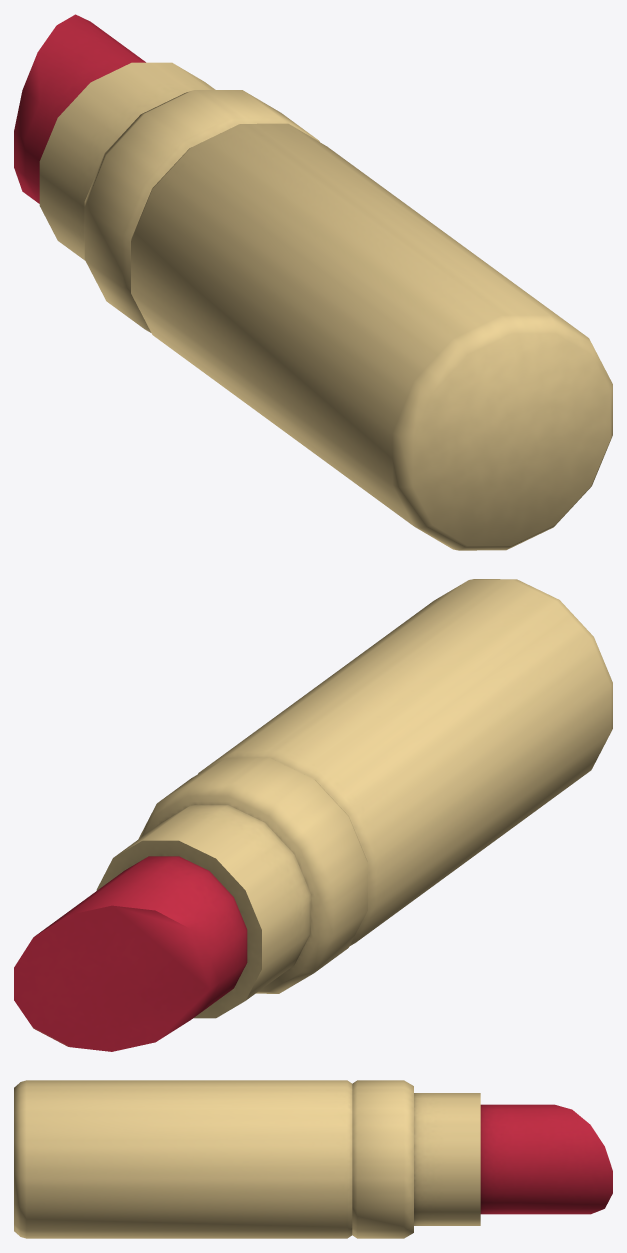
File: lipstick.glb
3 views of the same model, one above another, from view 1: azimuth 30°, elevation 25°; view 2: azimuth 150°, elevation 25°; view 3: azimuth 270°, elevation 25° (orthographic). The views are drawn at different scales.
Visible parts, largest first — view 1: d5_lipstick; view 2: d5_lipstick; view 3: d5_lipstick.
Part boxes in pixels (x1,y1,x2,y2): d5_lipstick: [14, 14, 612, 550]; d5_lipstick: [14, 579, 612, 1051]; d5_lipstick: [14, 1080, 612, 1238].
Bounding box in the file's own units: 0.0185 × 0.019 × 0.0719.
Materials: 1 (1 with a texture image).
